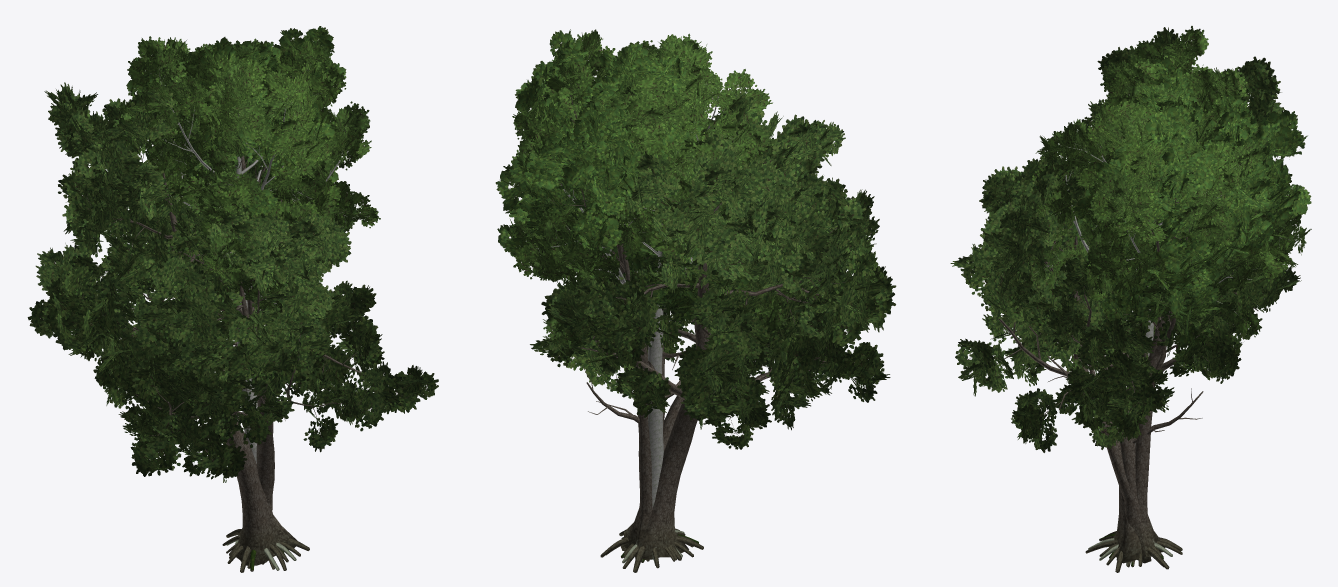
The model's file is env_trees_broadleaf.glb.
The picture shows the model from 3 angles, left to right: view 1: azimuth 30°, elevation 25°; view 2: azimuth 150°, elevation 25°; view 3: azimuth 270°, elevation 25°; orthographic projection. The views are drawn at different scales.
Visible parts, largest first — view 1: TREE_Oak_Spreading, TREE_Oak_Leaning_Old, TREE_Beech_Dome, TREE_Maple_Upright; view 2: TREE_Oak_Spreading, TREE_Beech_Dome, TREE_Maple_Upright, TREE_Oak_Leaning_Old, TREE_Snag_Dead; view 3: TREE_Beech_Dome, TREE_Maple_Upright, TREE_Oak_Leaning_Old, TREE_Oak_Spreading, TREE_Snag_Dead.
Boxes of the visible parts, x1,y1,x2,y2 form: TREE_Oak_Spreading: (27,82,438,572); TREE_Oak_Leaning_Old: (127,198,385,570); TREE_Beech_Dome: (113,36,380,570); TREE_Maple_Upright: (126,26,356,569); TREE_Oak_Spreading: (530,85,896,572); TREE_Beech_Dome: (503,29,797,565); TREE_Maple_Upright: (495,29,751,561); TREE_Oak_Leaning_Old: (606,110,879,568); TREE_Snag_Dead: (583,344,698,562); TREE_Beech_Dome: (1026,26,1311,566); TREE_Maple_Upright: (1072,58,1311,567); TREE_Oak_Leaning_Old: (950,150,1182,567); TREE_Oak_Spreading: (1004,27,1301,572); TREE_Snag_Dead: (1047,313,1203,567).
Bounding box in the file's own units: 20.62 × 28.77 × 20.01.
Materials: 7 (7 with a texture image).
